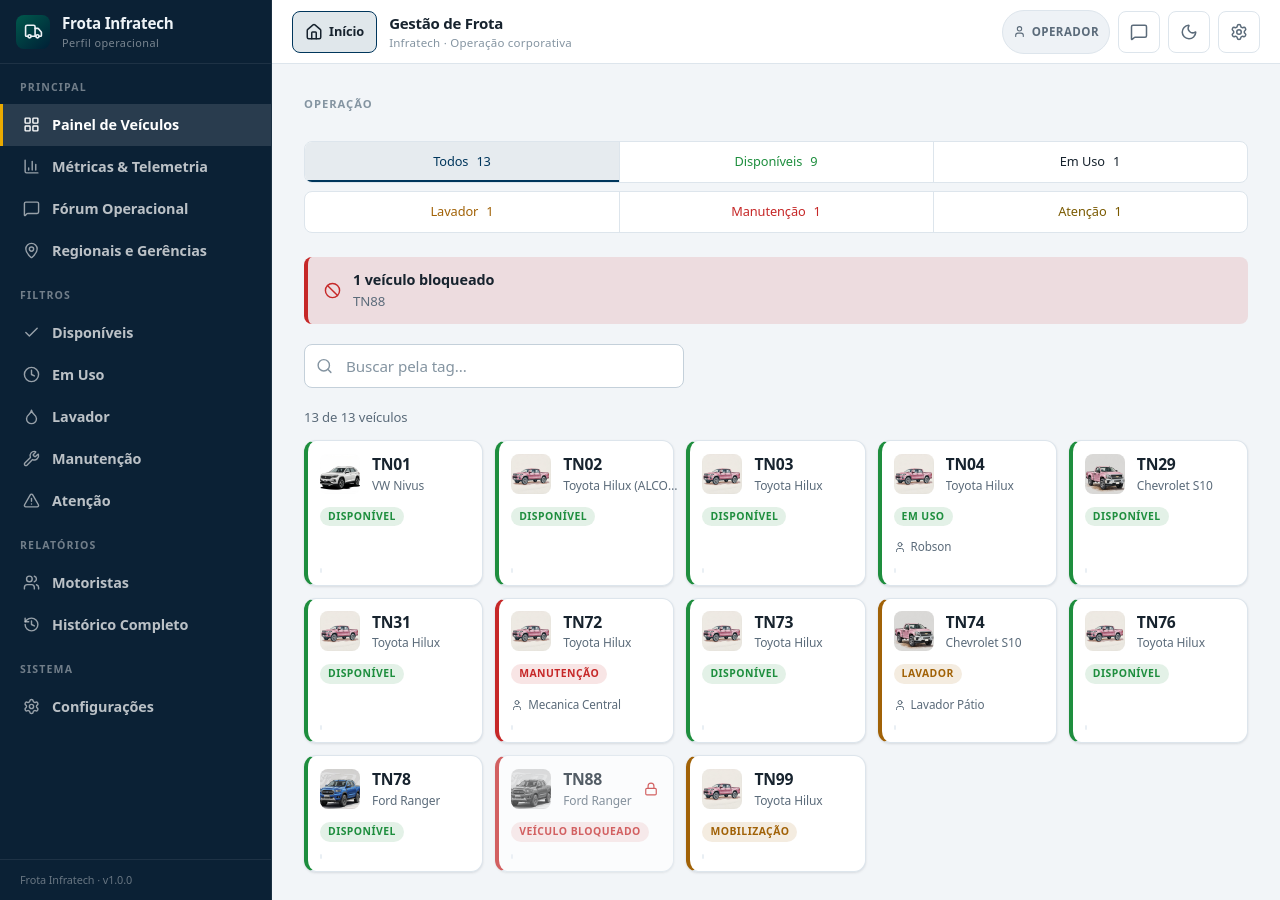
Test case: Acesso › a senha correta libera a área administrativa
Click the button with aria-label "Entrar como administrador": (1056, 32) [1002,10,1110,54]
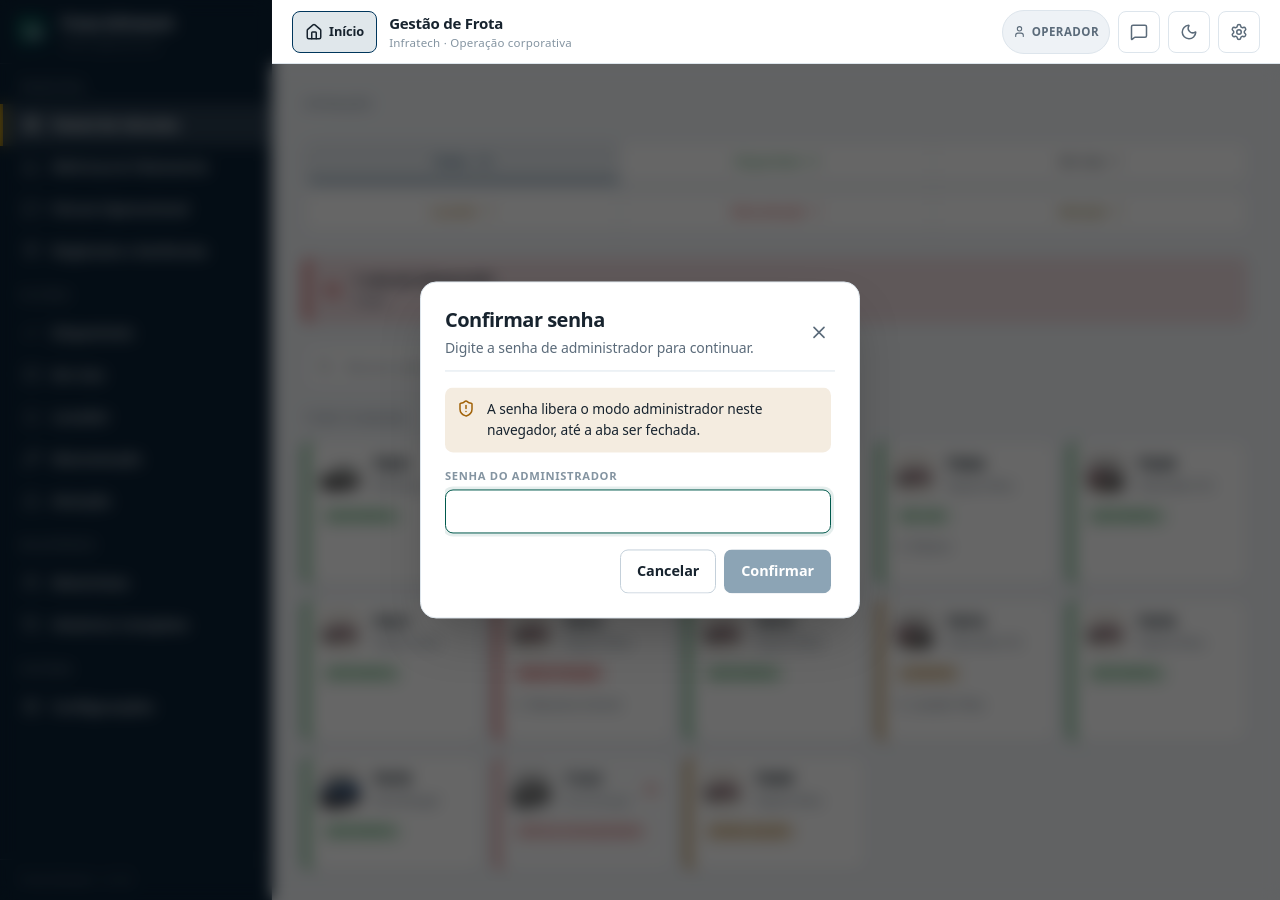
In the password field labelled "Senha do administrador": (638, 512) [445,490,831,534], type "senha-admin-teste"
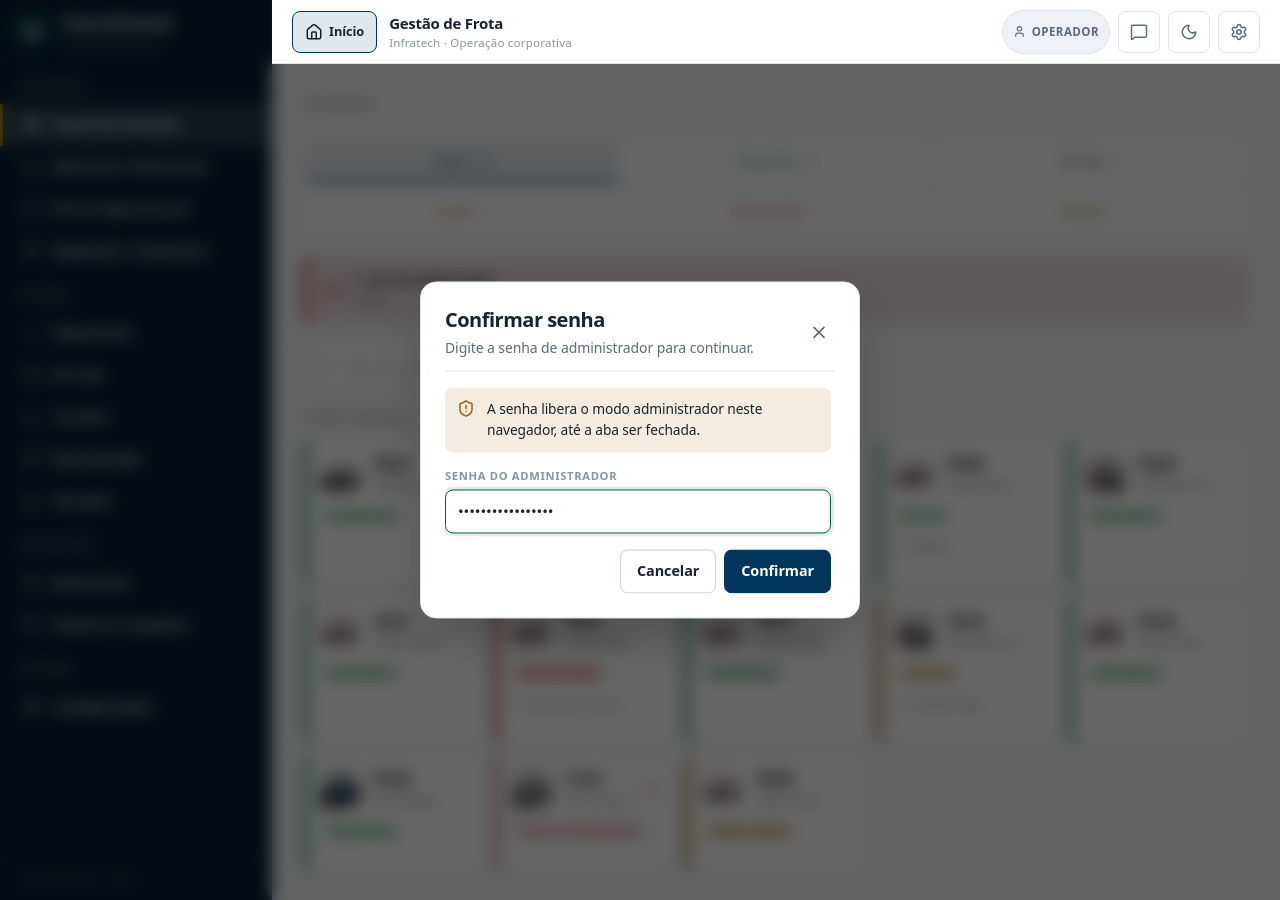
Click the button "Confirmar": (778, 572) [724,550,831,594]
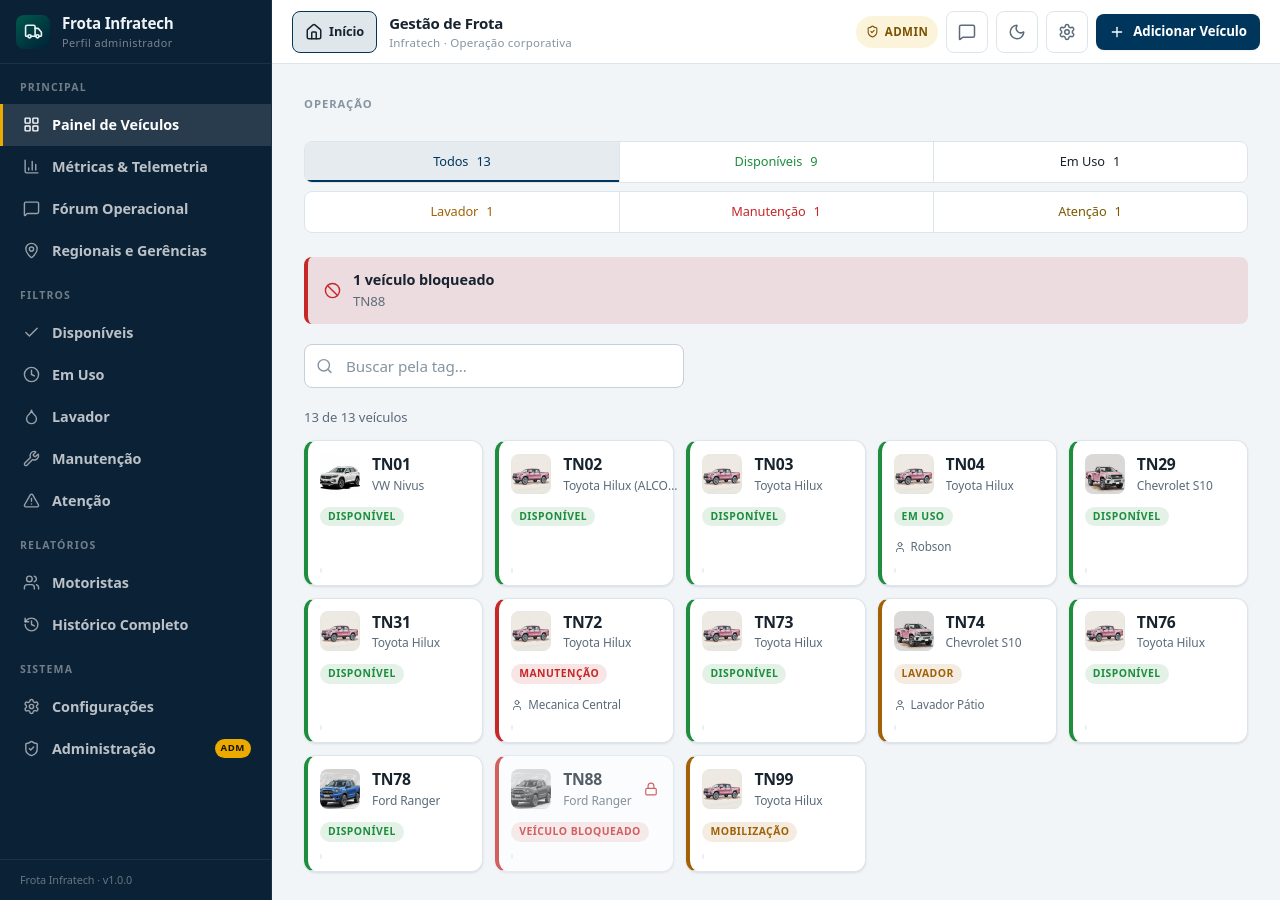
Check: the button "Administração ADM" is shown, box [0,727,271,769]
Check: the text "Admin" is shown, box [885,23,928,40]
